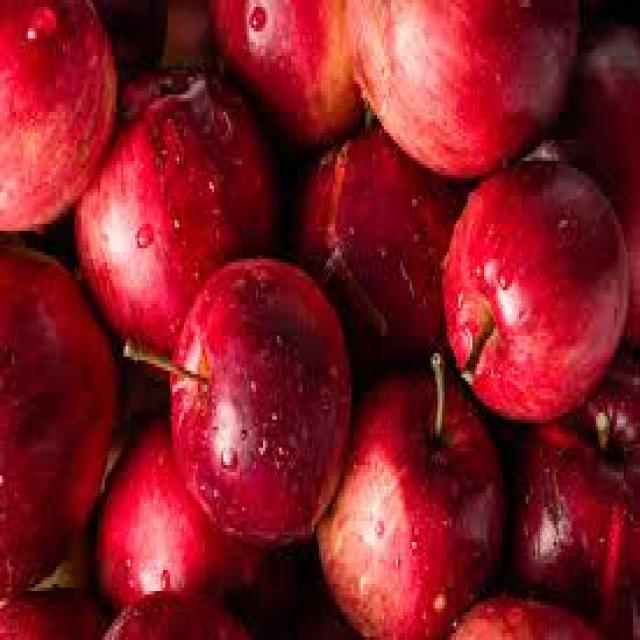apple: (166, 234, 353, 552)
